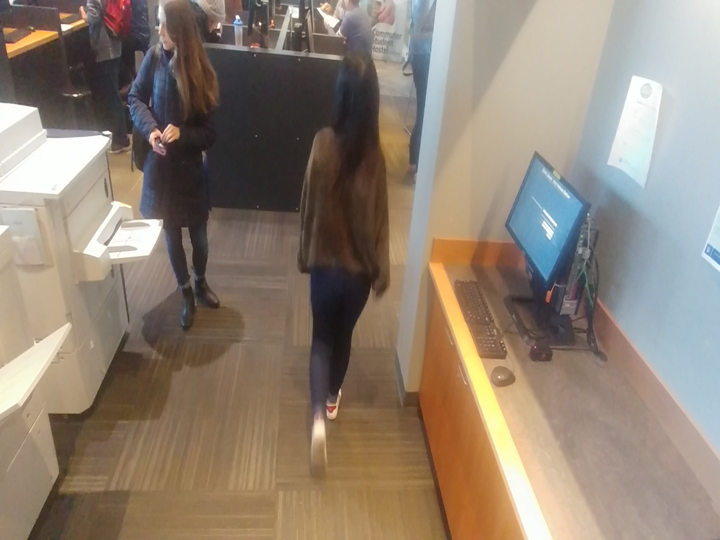face: (323, 46, 383, 148), (150, 0, 210, 65)
human: (293, 45, 396, 482), (127, 0, 242, 344), (74, 0, 134, 162), (334, 0, 377, 55)
